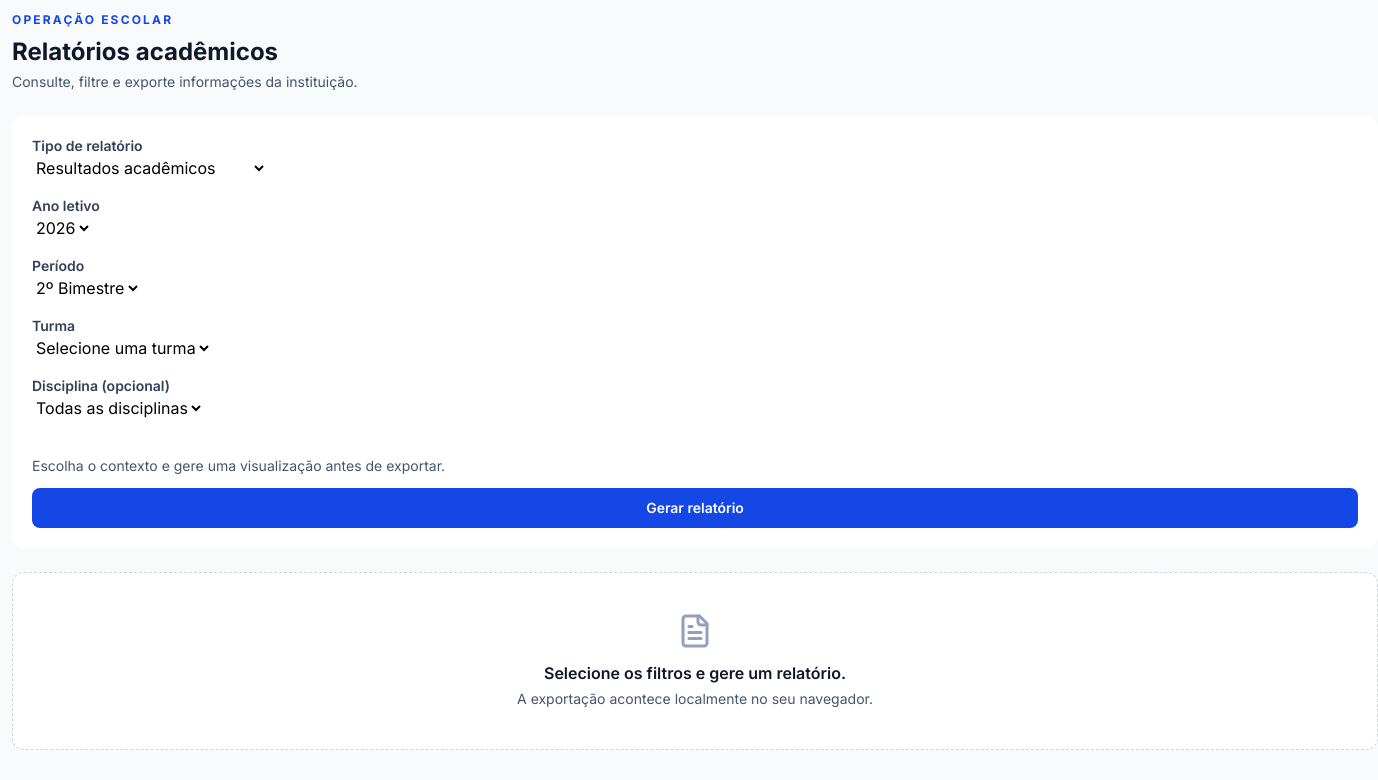
Test: AcademicReportsTab › troca para matrículas e limpa filtros incompatíveis
The image size is (1378, 780).
Step 1. Select "2º A" in the dropdown labelled "Turma" → (122, 348), box 32,337 -> 212,359
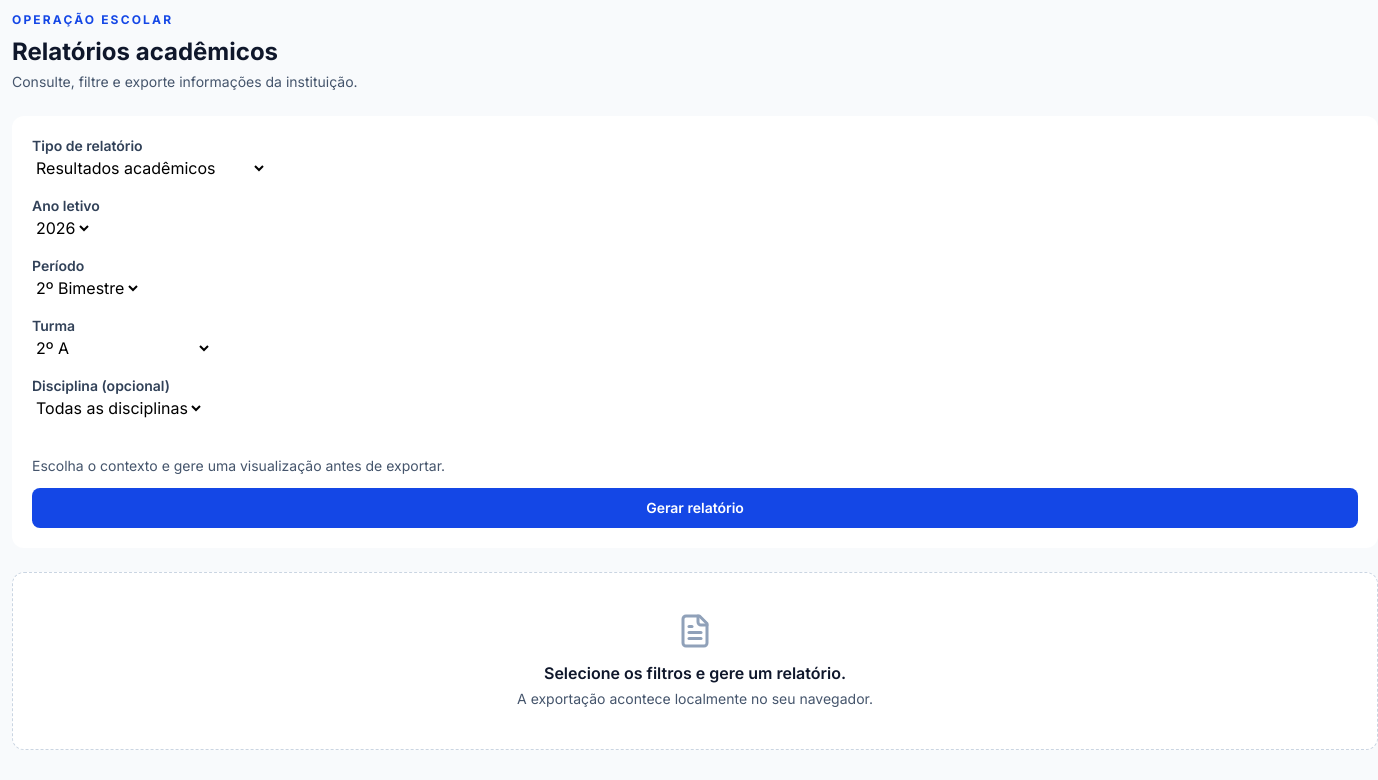
Step 2. Select "Alunos e matrículas" in the dropdown labelled "Tipo de relatório" → (150, 168), box 32,157 -> 267,179
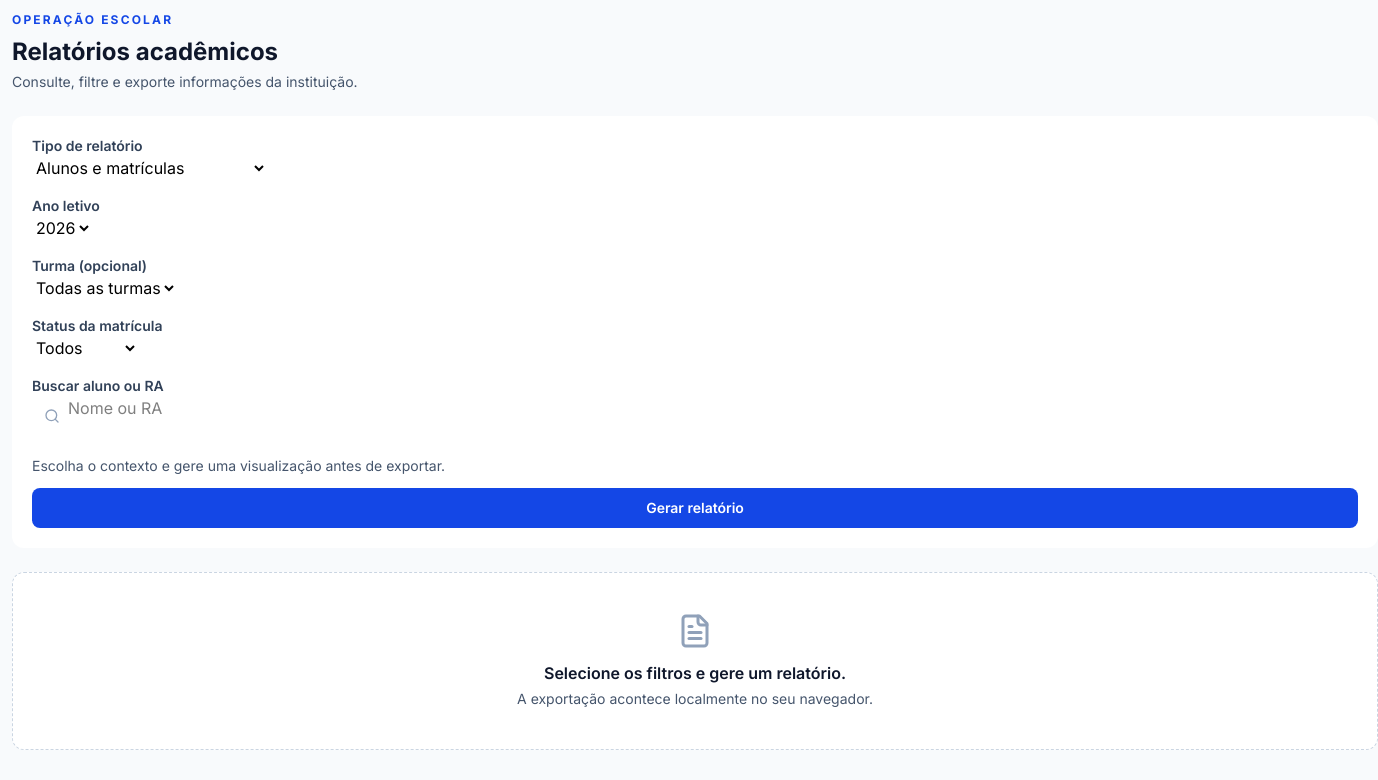
expect the text "Selecione os filtros e gere um relatório." is shown: met, box 544,663 -> 846,683
expect the label labelled "Período" is gone: met
expect the dropdown labelled "Status da matrícula" is shown: met, box 32,337 -> 138,359
